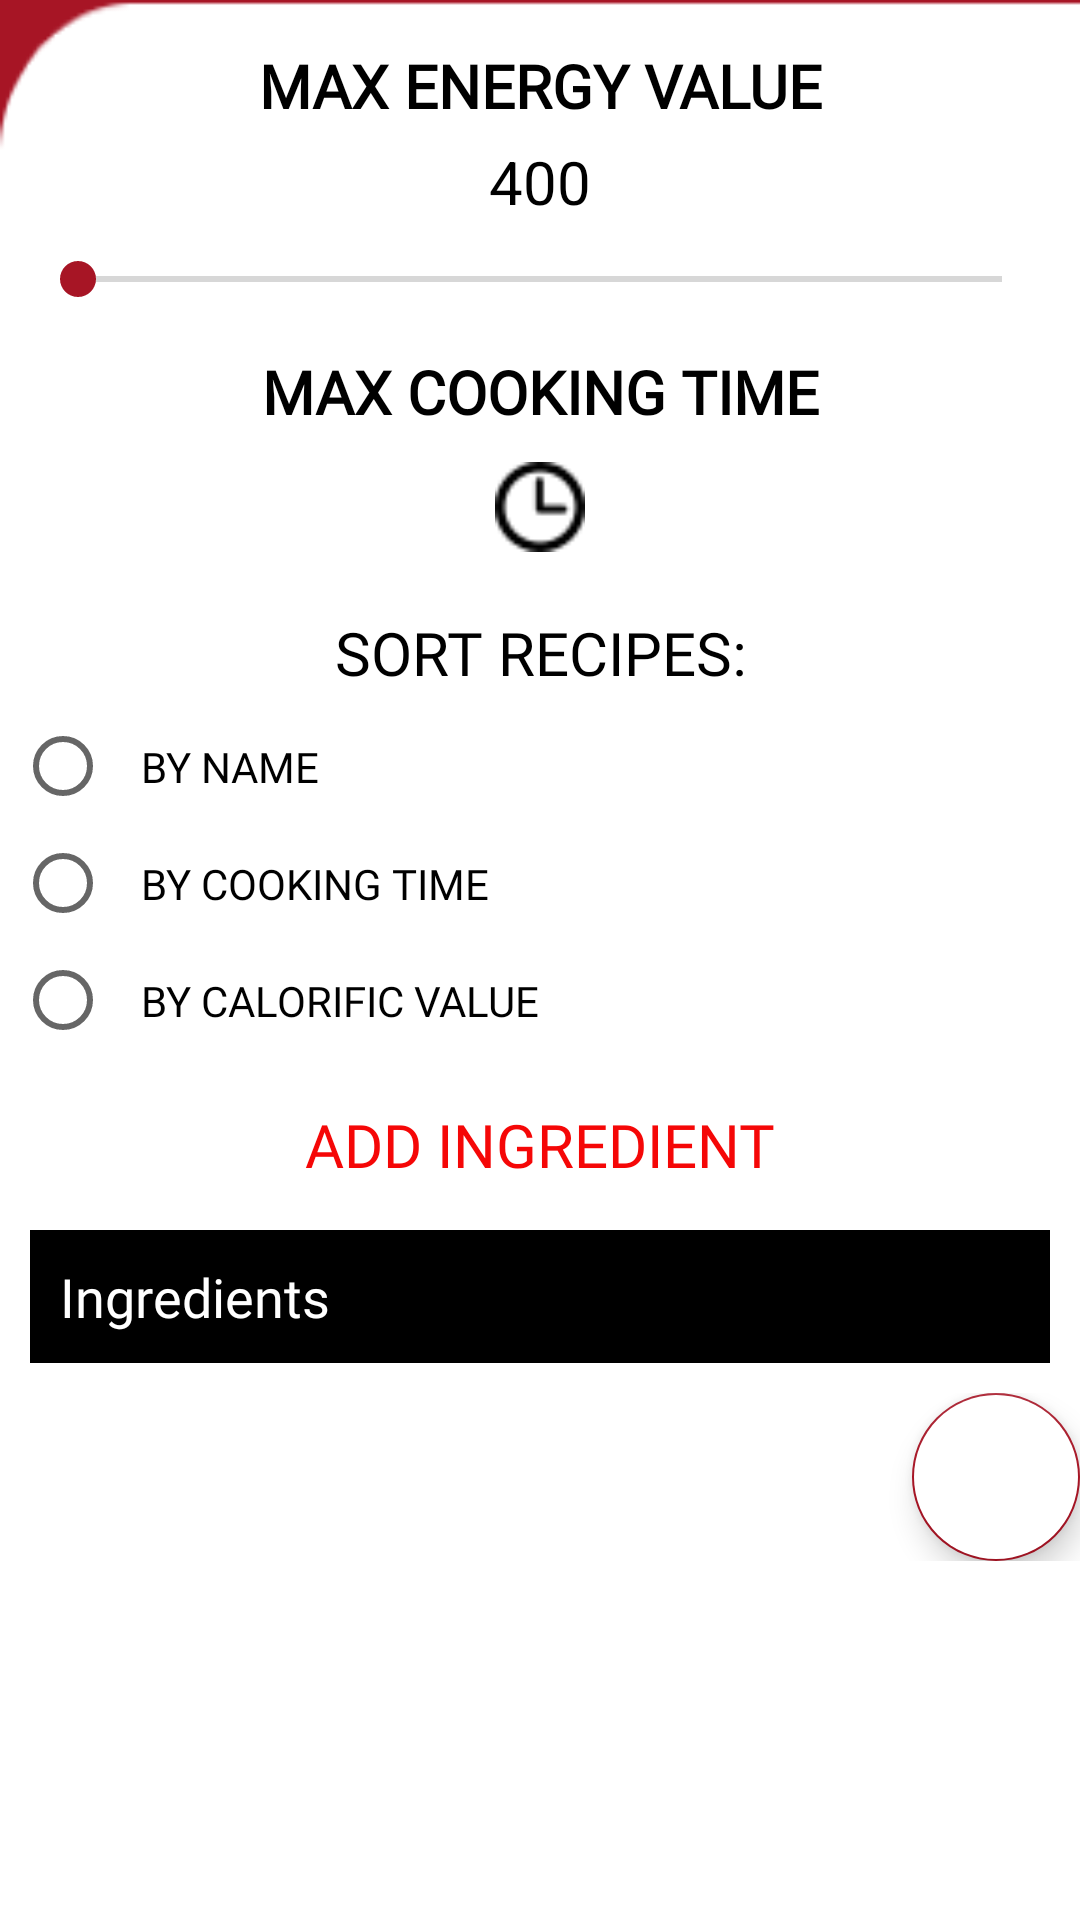

Icon bounding boxes for this 1080w x 1920h phone screenshot, format [left=x1, top=y1, right=x2, bottom=y2]:
clock: [left=495, top=462, right=585, bottom=552]
